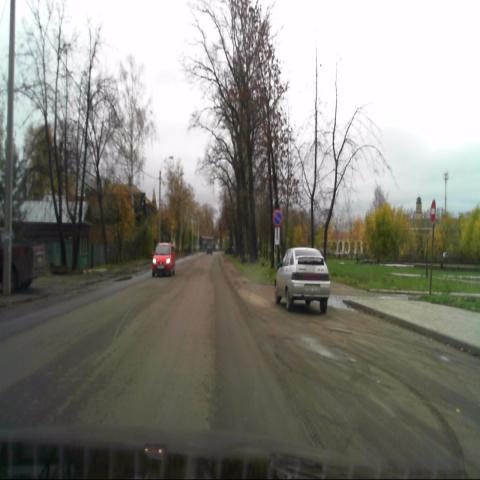3_28: (273, 208, 282, 226)
